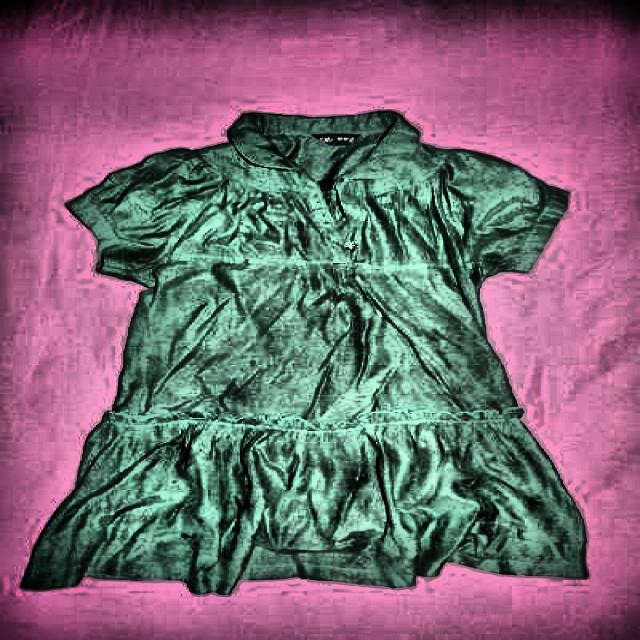clothes: (24, 108, 589, 592)
